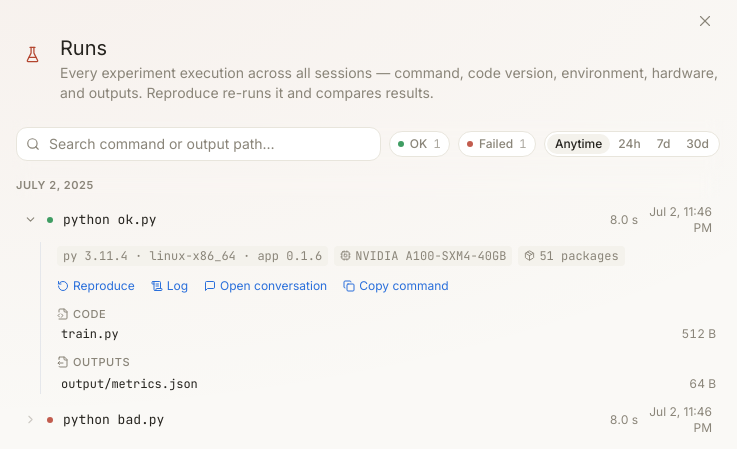
Test: RunsPage › filters by status via a facet chip
Expected: the text "python ok.py" is shown, 63,211 -> 157,228
Click the button "Failed 1" at (497, 144), box 458,131 -> 536,157
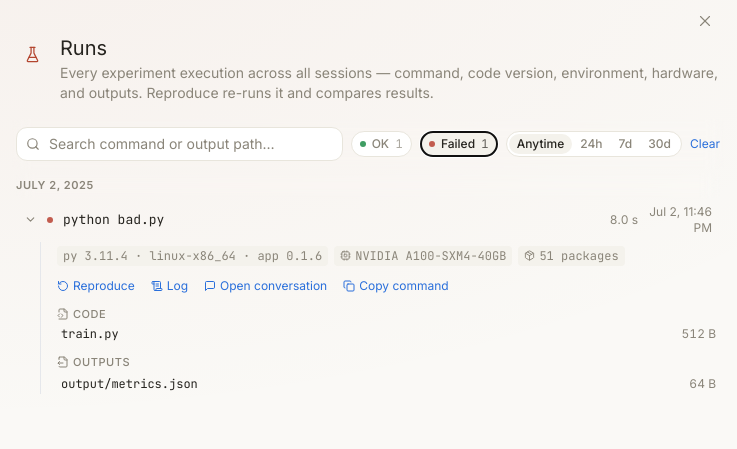
Expected: the text "python bad.py" is shown, 63,211 -> 164,228
Expected: the button "python ok.py" is gone
